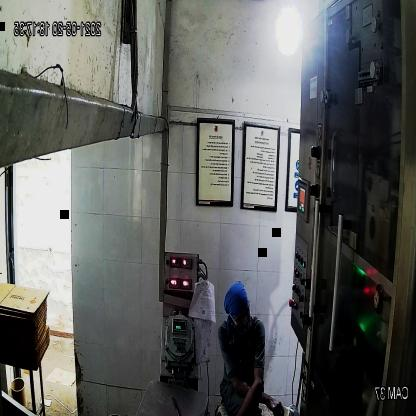goggles: (229, 304, 253, 328)
